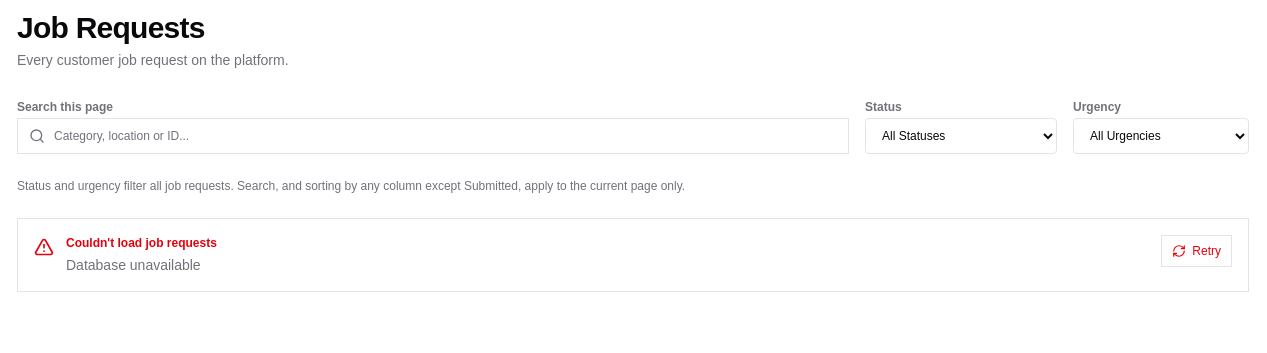
it: JobRequestsManagement › renders the error state with the backend message and retries
Expected: the message shows "Couldn't load job requests", [66,236,217,250]
Expected: the message shows "Database unavailable", [66,257,201,273]
Click the button "Retry" at (1197, 251), box [1161,235,1232,267]
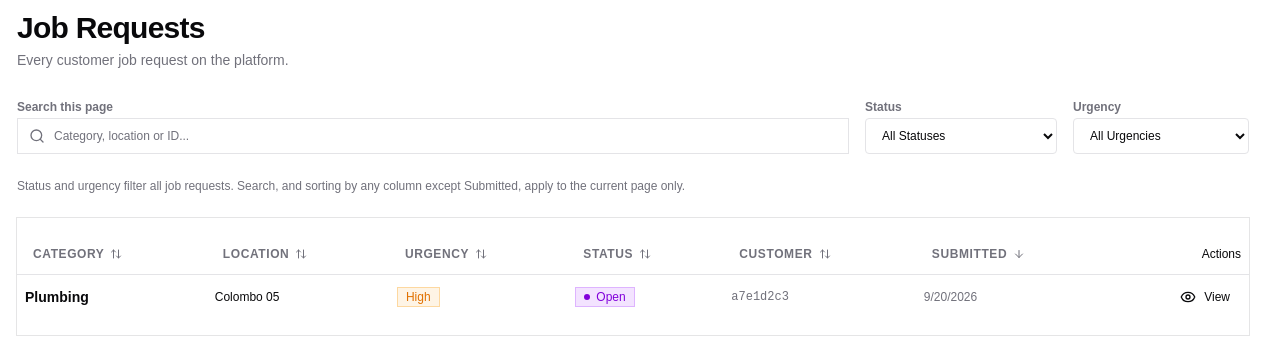
Now the text "Plumbing" is shown, box [17,274,207,318]
